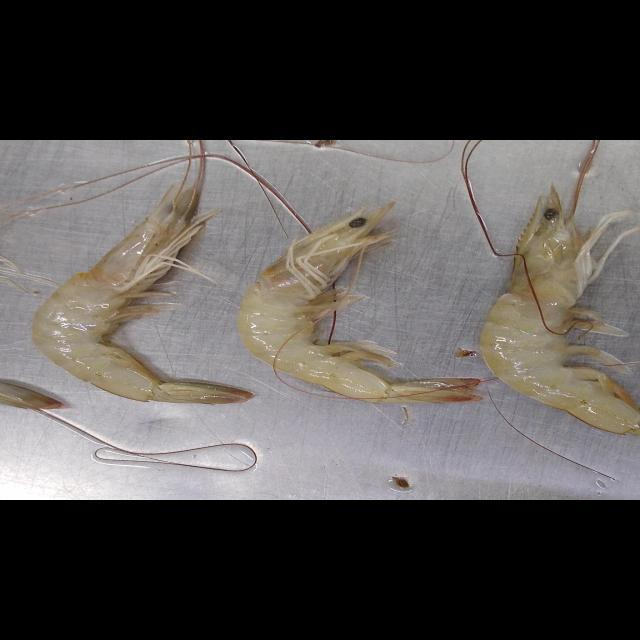shrimp: (31, 185, 253, 404), (238, 205, 480, 404), (480, 189, 640, 436)
